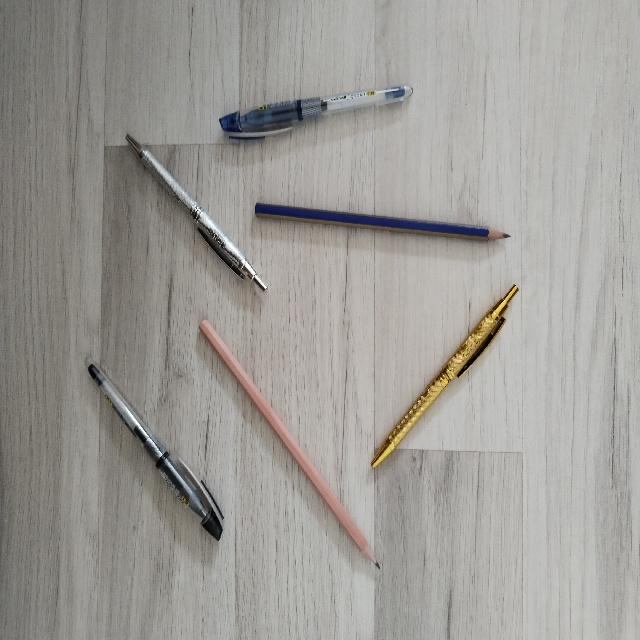pen: (87, 360, 222, 539), (219, 85, 412, 138)
pencil: (199, 320, 378, 567), (255, 203, 509, 239)
signature pen: (371, 285, 517, 467), (126, 135, 266, 290)
